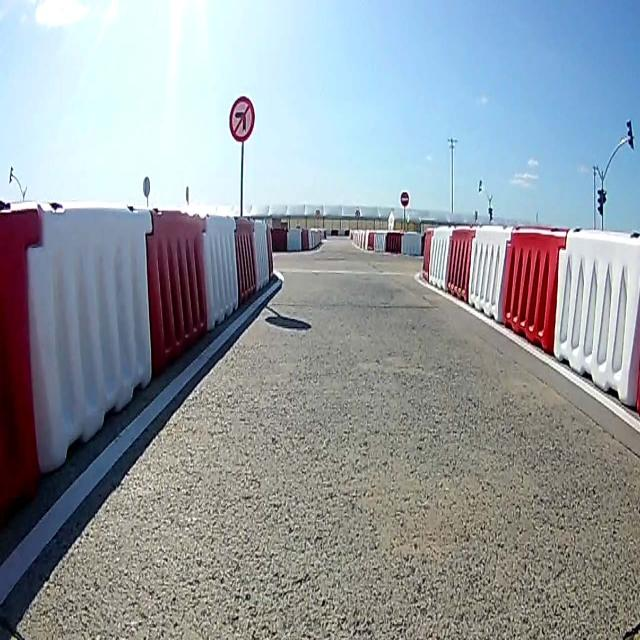girisyok: (400, 191, 409, 207)
soladonulmez: (229, 96, 255, 142)
